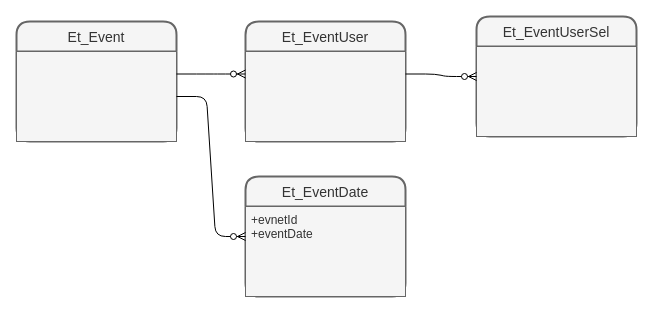
Image size: 653x313. Some labels were removed from this diagram. Each missing label, with the centre of its shape:
+eventId +eventName -eventUrl -eventMemo: pixel 96 96
+evnetId +userId +eventDate -userSel: pixel 556 91
+evnetId +userId -userName -userMemo: pixel 325 96
